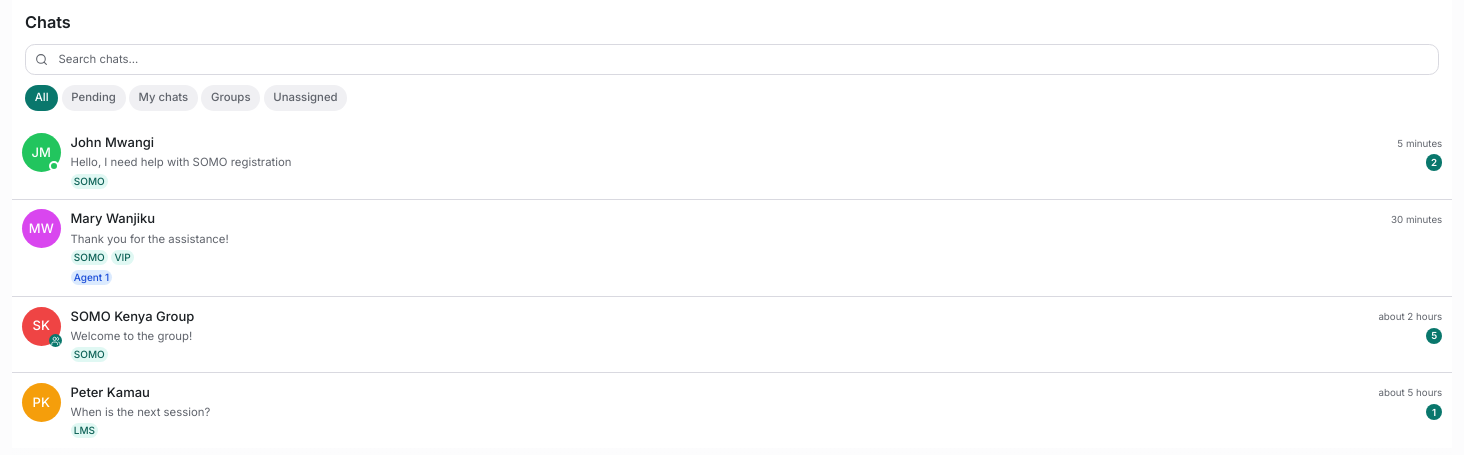
Test: ChatList › filtering › filters by "Groups"
Expected: the text "John Mwangi" is shown, [70, 133, 154, 153]
What coordinates should you click on to do the following:
click the button "Groups"
I would click on:
 (231, 98)
Its box is [201, 84, 260, 110].
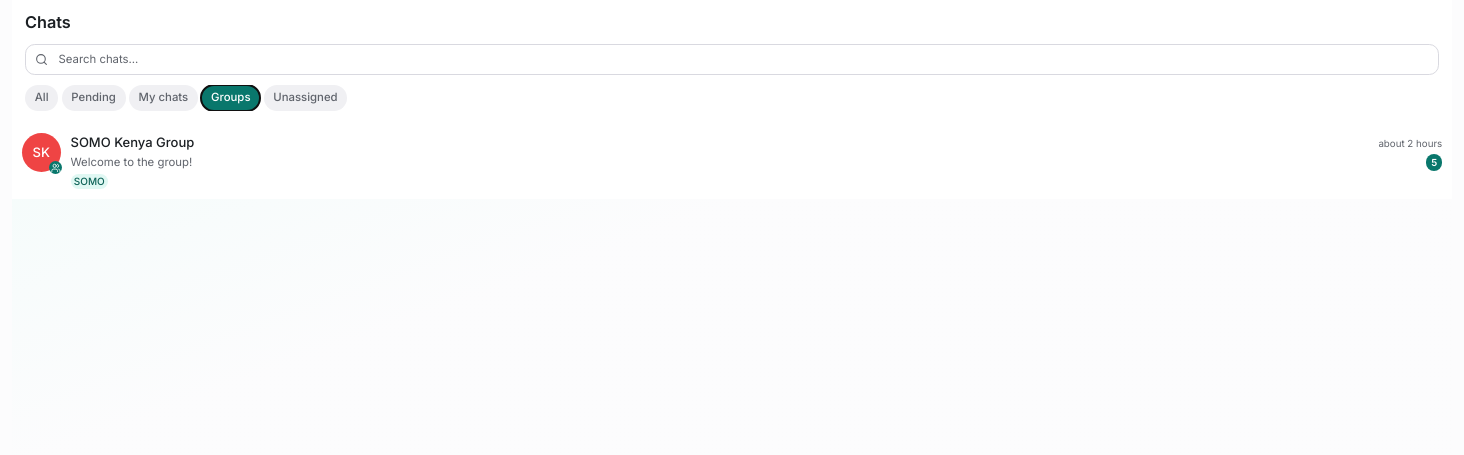
Expected: the text "SOMO Kenya Group" is shown, [70, 133, 194, 153]
Now the button "John Mwangi" is gone
Now the button "Mary Wanjiku" is gone
